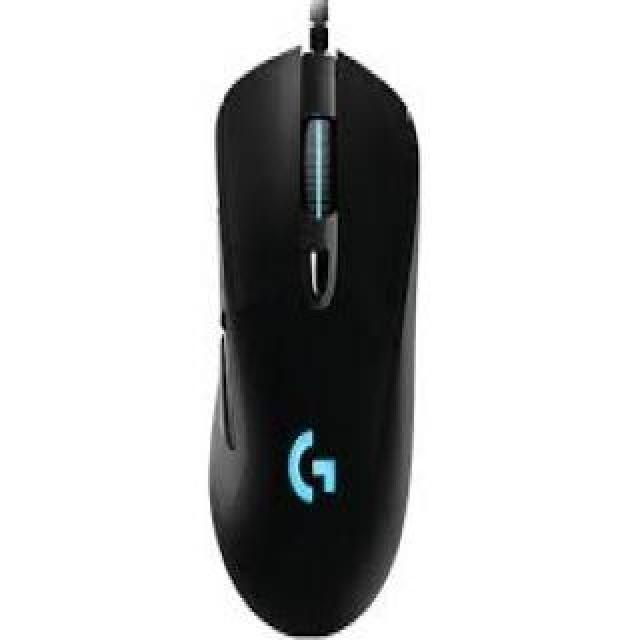mouse: (172, 35, 432, 639)
